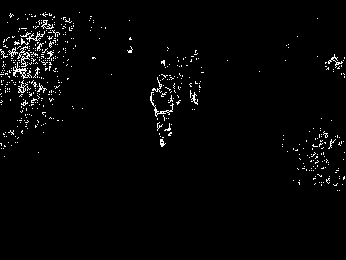person: (149, 72, 175, 149)
